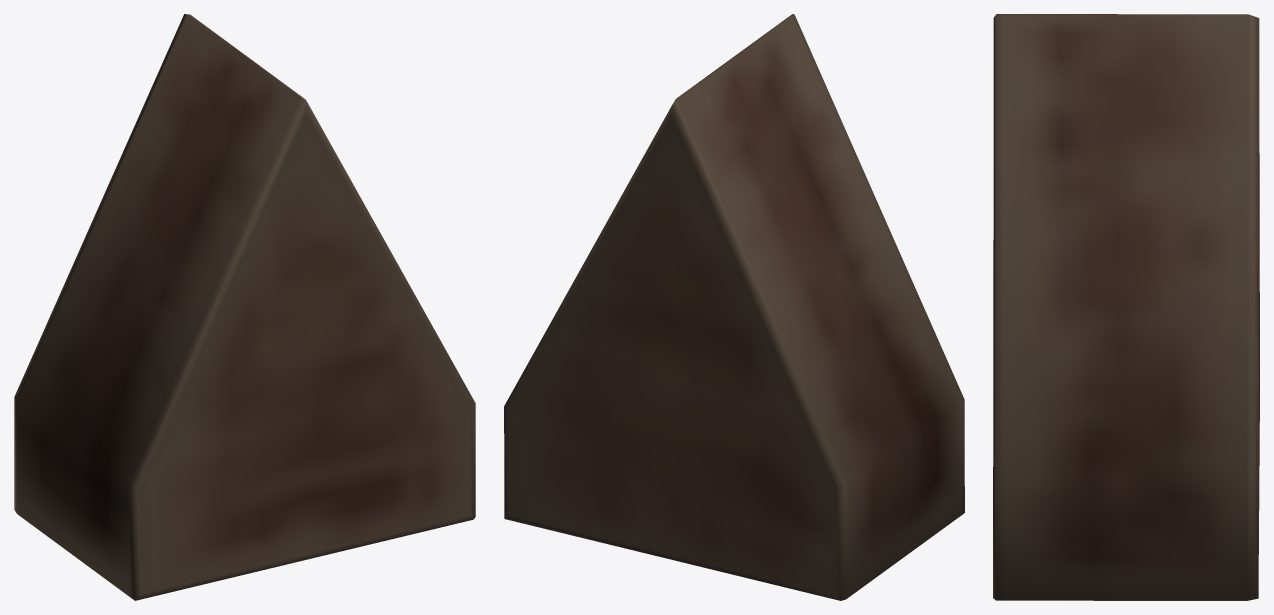
The model's file is House.glb.
The picture shows the model from 3 angles, left to right: view 1: azimuth 30°, elevation 25°; view 2: azimuth 150°, elevation 25°; view 3: azimuth 270°, elevation 25°; orthographic projection. The views are drawn at different scales.
Parts seen in each view (by area): view 1: SM_Mini_wood_02.006_War_table_0.001; view 2: SM_Mini_wood_02.006_War_table_0.001; view 3: SM_Mini_wood_02.006_War_table_0.001.
Boxes of the visible parts, bbox=[...] form: SM_Mini_wood_02.006_War_table_0.001: bbox=[14, 14, 475, 600]; SM_Mini_wood_02.006_War_table_0.001: bbox=[504, 14, 964, 600]; SM_Mini_wood_02.006_War_table_0.001: bbox=[993, 14, 1259, 600].
Size of the model in its own units: 82.8 by 106 by 51.61.
1 material, 1 textured.
